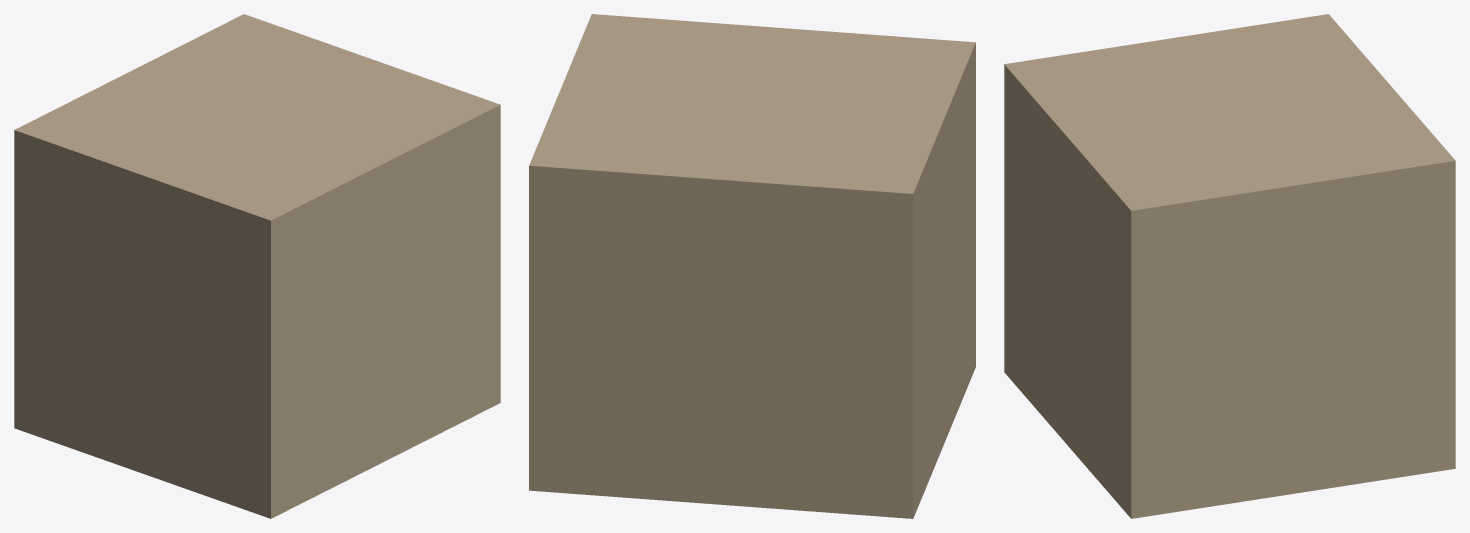
Rendered from bld_106796863.dae.
3 views of the same model, side by side, from view 1: azimuth 30°, elevation 25°; view 2: azimuth 150°, elevation 25°; view 3: azimuth 270°, elevation 25° (orthographic). The views are drawn at different scales.
Visible parts, largest first — view 1: bld_106796863; view 2: bld_106796863; view 3: bld_106796863.
Boxes of the visible parts, box(x1,y1,x2,y2) form: bld_106796863: box(14, 14, 500, 518); bld_106796863: box(529, 14, 975, 518); bld_106796863: box(1004, 14, 1455, 518).
Bounding box in the file's own units: 10.97 × 10.62 × 8.
